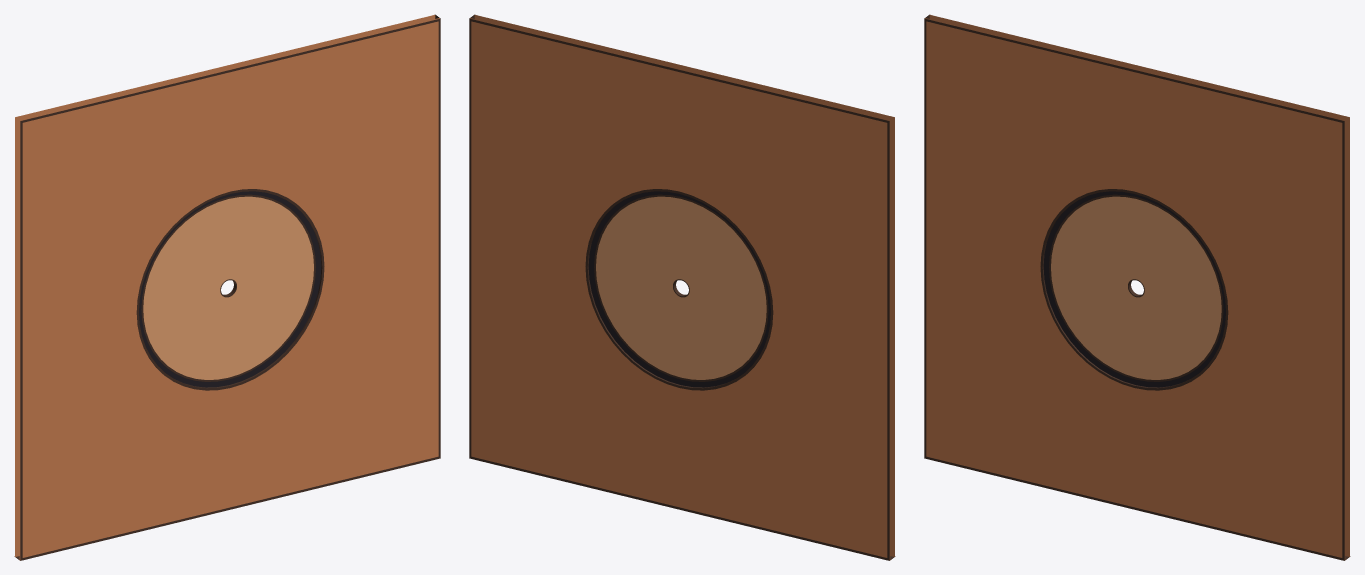
The model's file is Orange.glb.
3 views of the same model, side by side, from view 1: azimuth 30°, elevation 25°; view 2: azimuth 150°, elevation 25°; view 3: azimuth 330°, elevation 25° (orthographic).
Visible parts, largest first — view 1: Sleeve, Record; view 2: Sleeve, Record; view 3: Sleeve, Record.
Part boxes in pixels (x1,y1,x2,y2): Sleeve: [14, 14, 440, 560]; Record: [139, 191, 321, 387]; Sleeve: [469, 14, 895, 560]; Record: [588, 191, 770, 387]; Sleeve: [924, 14, 1350, 560]; Record: [1043, 191, 1225, 387].
Bounding box in the file's own units: 0.188 × 0.188 × 0.0048.
